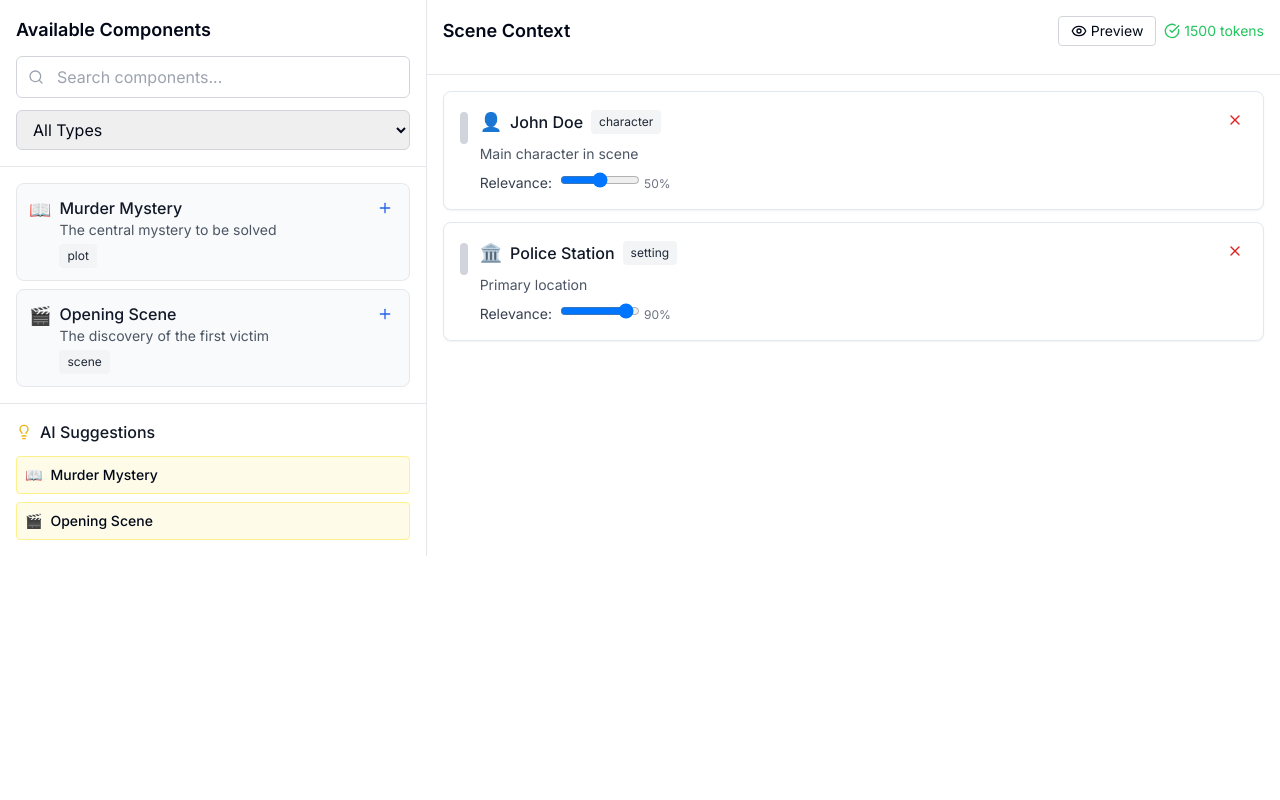
Scenario: ContextBuilder › Preview Mode › shows context preview sorted by relevance
Click the button "Preview": coordinates (1107, 31) [1058,16,1156,46]
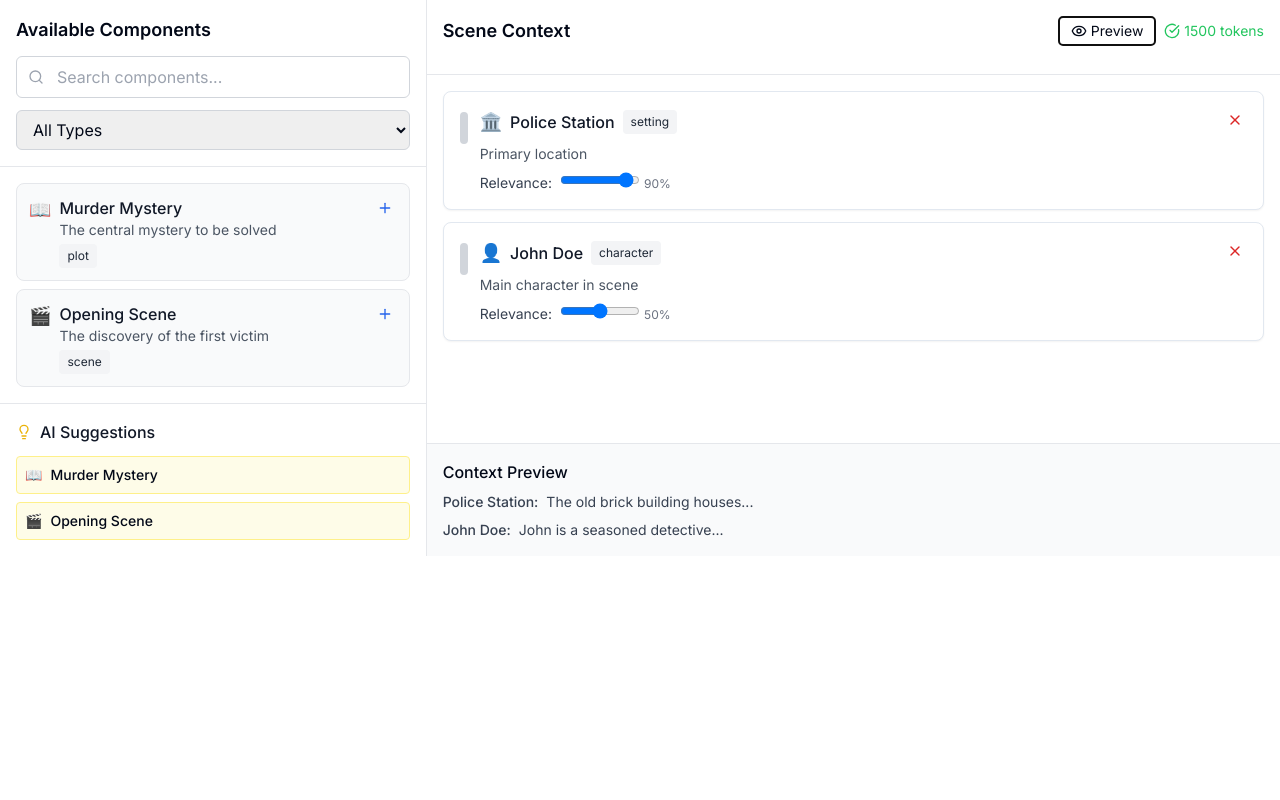
Expected: the element with class "items-start" shows "Police Station", [443,493,534,510]
Expected: the element with class "items-start" shows "John Doe", [443,521,507,538]
